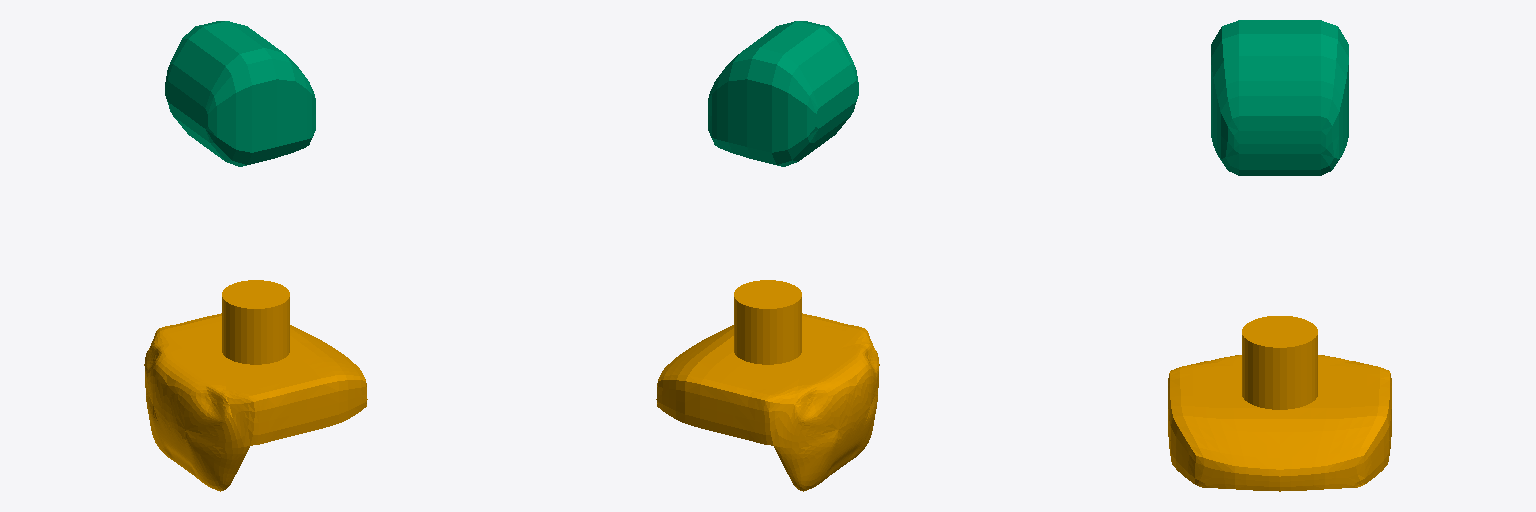
The robot description file, URDF, robot "ar600_torso":
<?xml version="1.0" ?>
<!-- =================================================================================== -->
<!-- |    This document was autogenerated by xacro from ar600.head.urdf.xacro          | -->
<!-- |    EDITING THIS FILE BY HAND IS NOT RECOMMENDED                                 | -->
<!-- =================================================================================== -->
<robot name="ar600_torso" xmlns:controller="http://playerstage.sourceforge.net/gazebo/xmlschema/#controller" xmlns:interface="http://playerstage.sourceforge.net/gazebo/xmlschema/#interface" xmlns:sensor="http://playerstage.sourceforge.net/gazebo/xmlschema/#sensor" xmlns:xacro="http://ros.org/wiki/xacro">
  <plugin filename="libgazebo_ros_controller_manager.so" name="gazebo_ros_controller_manager">
    <alwaysOn>true</alwaysOn>
    <updateRate>1000.0</updateRate>
  </plugin>
  <link name="base_link">
    <inertial>
      <mass value="10"/>
      <inertia ixx="1.0" ixy="0.0" ixz="0.0" iyy="1.0" iyz="0.0" izz="1.0"/>
    </inertial>
    <collision>
      <geometry>
        <mesh filename="package://ar600_description/meshes/base.stl"/>
      </geometry>
    </collision>
    <visual>
      <geometry>
        <mesh filename="package://ar600_description/meshes/base_low.dae"/>
      </geometry>
    </visual>
  </link>
  <link name="torso_link">
    <inertial>
      <mass value="10"/>
      <inertia ixx="1.0" ixy="0.0" ixz="0.0" iyy="1.0" iyz="0.0" izz="1.0"/>
    </inertial>
    <collision>
      <geometry>
        <mesh filename="package://ar600_description/meshes/body.stl"/>
      </geometry>
    </collision>
    <visual>
      <geometry>
        <mesh filename="package://ar600_description/meshes/body.dae"/>
      </geometry>
    </visual>
  </link>
  <joint name="torso_rotation_joint" type="continuous">
    <axis xyz="0 0 1"/>
    <dynamics damping="20000.0"/>
    <parent link="base_link"/>
    <child link="torso_link"/>
    <origin rpy="0 0 0" xyz="0 0 0"/>
  </joint>
  <transmission name="torso_rotation_trans" type="transmission_interface/SimpleTransmission">
    <actuator name="torso_rotation_motor"/>
    <joint name="torso_rotation_joint"/>
    <mechanicalReduction>-79.2380952381</mechanicalReduction>
  </transmission>
  <!-- 	<link name="base_link">
		<inertial>
			<mass value="10"/>
			<inertia ixx="1.0" ixy="0.0" ixz="0.0" iyy="1.0" iyz="0.0" izz="1.0"/>
		</inertial>	
	</link> -->
  <link name="head_link">
    <visual>
      <geometry>
        <mesh filename="package://ar600_description/meshes/head_low.dae"/>
      </geometry>
    </visual>
    <inertial>
      <mass value="10"/>
      <inertia ixx="1.0" ixy="0.0" ixz="0.0" iyy="1.0" iyz="0.0" izz="1.0"/>
    </inertial>
    <collision>
      <geometry>
        <mesh filename="package://ar600_description/meshes/phys_model/head.stl"/>
      </geometry>
    </collision>
  </link>
  <link name="head_mount">
    <inertial>
      <mass value="1"/>
      <inertia ixx="1.0" ixy="0.0" ixz="0.0" iyy="1.0" iyz="0.0" izz="1.0"/>
    </inertial>
  </link>
  <joint name="torso_head_mount" type="revolute">
    <parent link="base_link"/>
    <child link="head_mount"/>
    <origin rpy="0 0 0" xyz="-0.05 0 .37"/>
    <limit effort="1000.0" lower="0.0" upper="0.548" velocity="0.5"/>
    <axis xyz="0 0 1"/>
    <dynamics damping="20000.0"/>
  </joint>
  <joint name="head_mount_head" type="revolute">
    <parent link="head_mount"/>
    <child link="head_link"/>
    <limit effort="1000.0" lower="-.5" upper=".5" velocity="0.5"/>
    <axis xyz="0 1 0"/>
    <dynamics damping="20000.0"/>
    <origin rpy="0 0 0" xyz="0 0 0"/>
  </joint>
</robot>

--- Render facts (derived) ---
Views: 3 orthographic renders of the robot side by side, from view 1: azimuth 30°, elevation 25°; view 2: azimuth 150°, elevation 25°; view 3: azimuth 270°, elevation 25°.
Robot: ar600_torso — 4 links, 3 joints (2 revolute, 1 continuous); root link base_link; default pose: every joint at zero.
Links seen in each view (by area): view 1: base_link, head_link; view 2: base_link, head_link; view 3: base_link, head_link.
Boxes of the visible links, x1,y1,x2,y2 form: base_link: (144,280,367,491); head_link: (165,21,315,166); base_link: (656,280,879,491); head_link: (708,21,858,166); base_link: (1168,316,1391,491); head_link: (1211,20,1348,175).
Bounding box of the posed robot: 0.3326 × 0.3241 × 0.7496 m (x, y, z).
Meshes: 3 distinct files referenced, 2 mesh visuals loaded (2 Collada DAE); not drawn: 1 (reference not matched to a file when rendering).